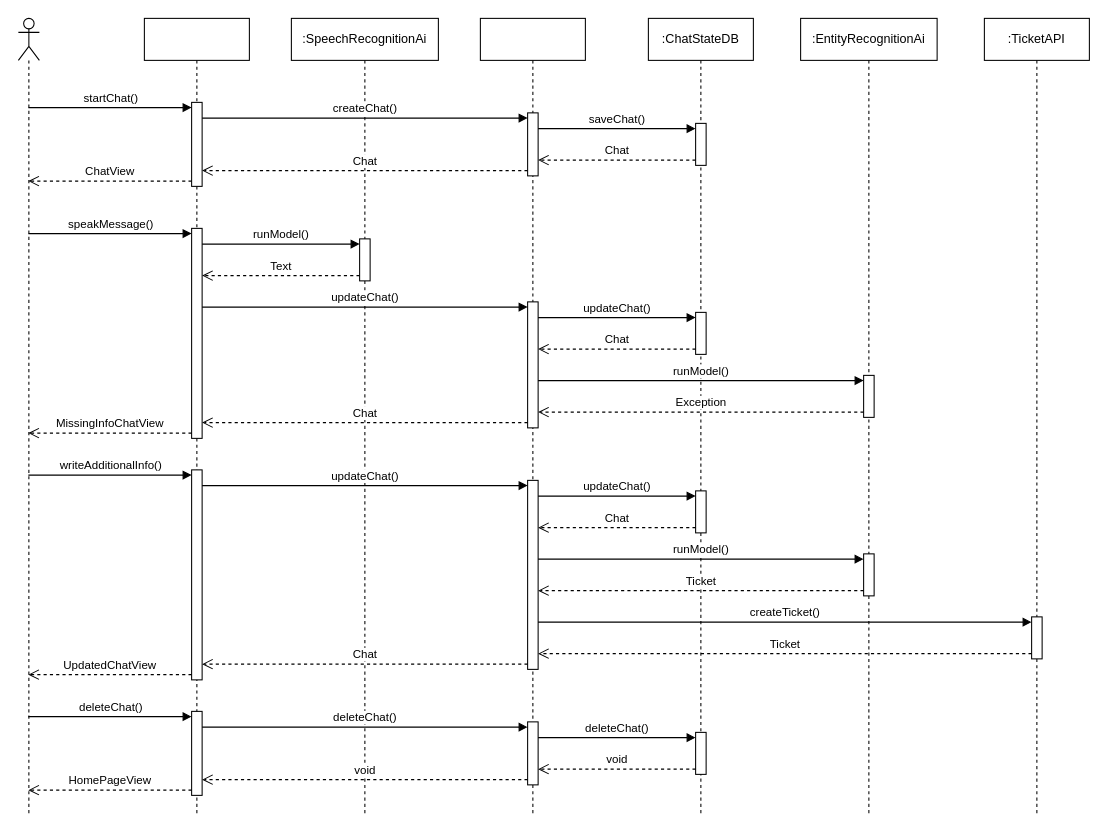
The diagram is 1108 pixels wide and 835 high, and some of its shapes have lost their labels. Each missing label, with the centre of its shape:
":TalktixChatAPI" goes at point (532, 416).
":TalktixChatUI" goes at point (196, 416).
